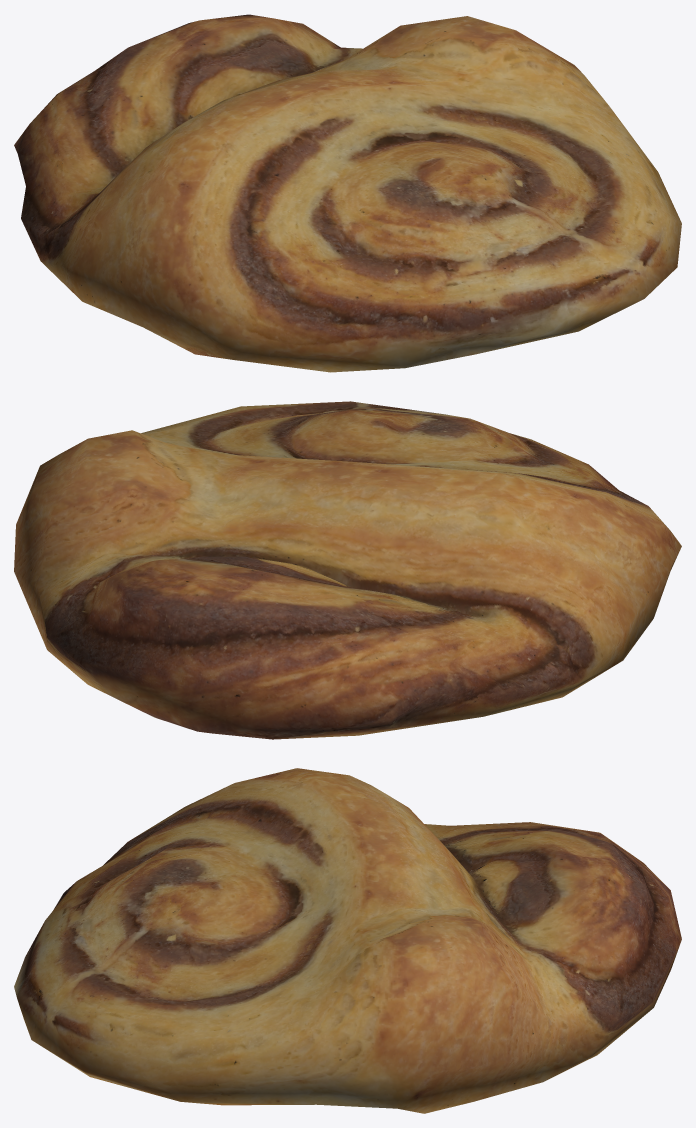
Rendered from 3DPastry003_LQ-2K-JPG.obj.
3 renders of one model, top to bottom at view 1: azimuth 30°, elevation 25°; view 2: azimuth 150°, elevation 25°; view 3: azimuth 270°, elevation 25°, orthographic. The views are drawn at different scales.
Parts seen in each view (by area): view 1: 3DPastry003_LQ-2K-JPG; view 2: 3DPastry003_LQ-2K-JPG; view 3: 3DPastry003_LQ-2K-JPG.
Part boxes in pixels (x1,y1,x2,y2): 3DPastry003_LQ-2K-JPG: [14, 14, 681, 372]; 3DPastry003_LQ-2K-JPG: [14, 401, 681, 739]; 3DPastry003_LQ-2K-JPG: [14, 768, 681, 1113].
Bounding box in the file's own units: 0.1805 × 0.0516 × 0.1946.
Materials: 1 (1 with a texture image).
